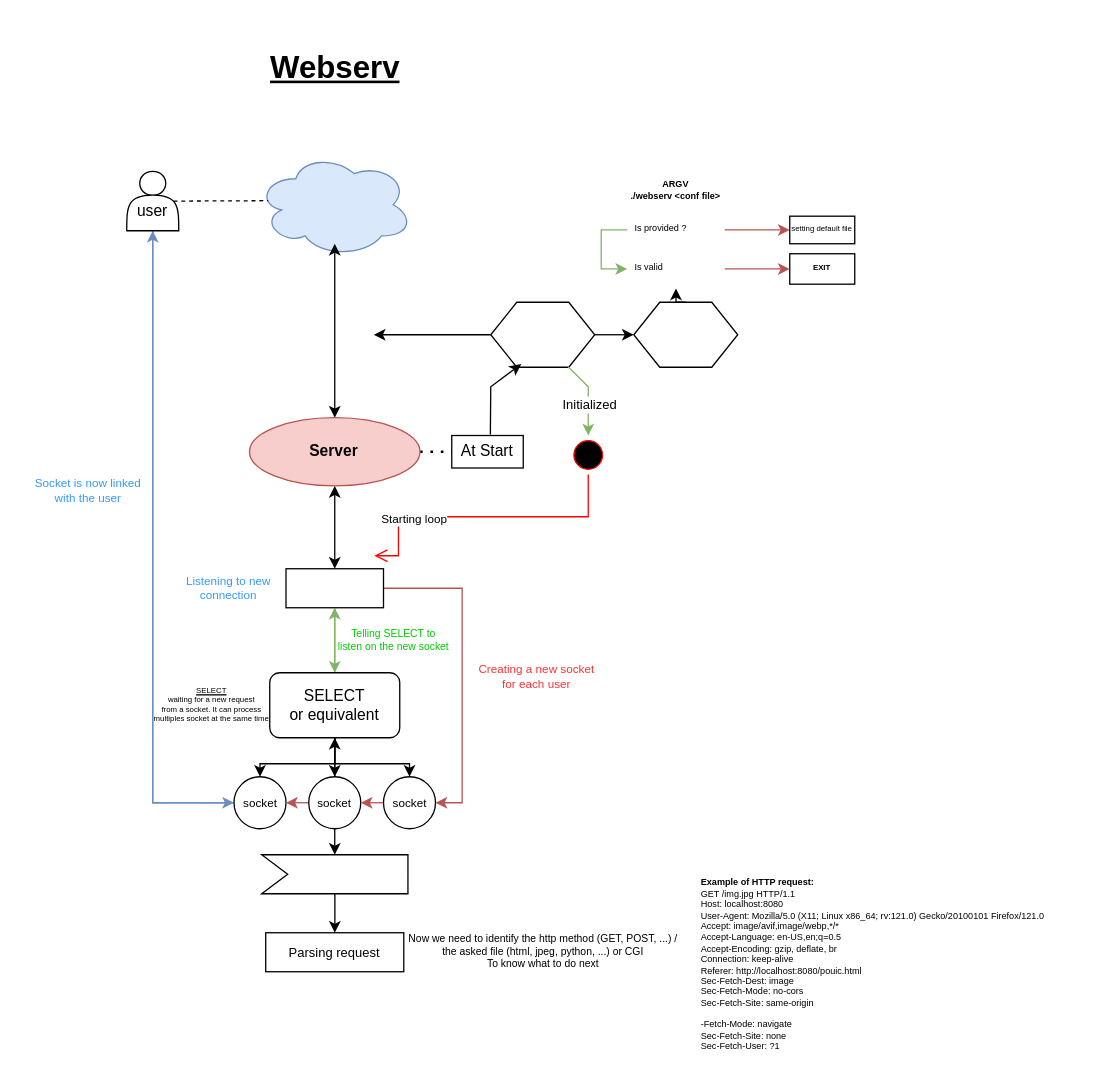
This 1097x1084 diagram has some shape labels left out. The shapes that lost their labels are listed below. From the top down, each one's centre as x and y in pixels, then its label:
At pixel 334 204: "Internet".
At pixel 542 334: "Initializing".
At pixel 685 334: "Parsing".
At pixel 334 587: "Listener Socket".
At pixel 334 873: "New request".
